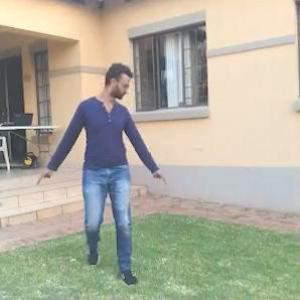land: (40, 63, 174, 292)
